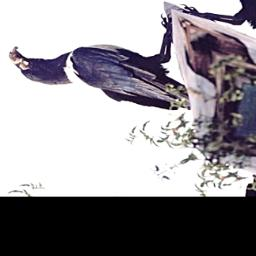Crow: (0, 0, 242, 161)
